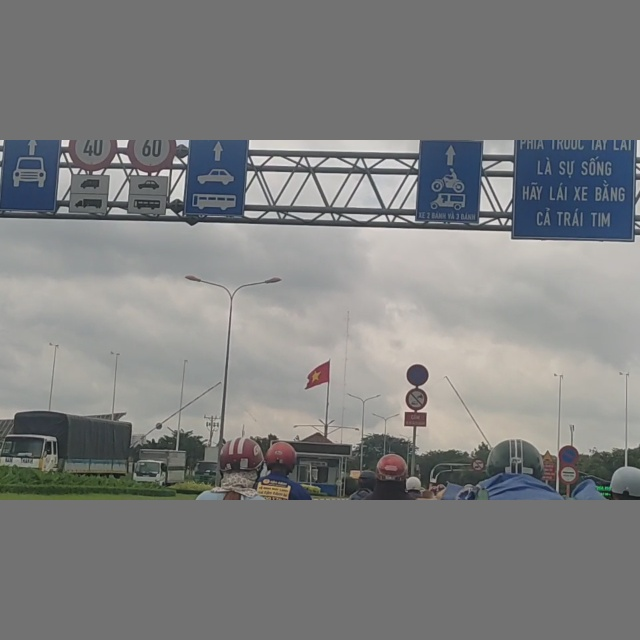P.107: (471, 458, 485, 471)
P.111: (406, 388, 428, 409)
P.127*40: (69, 141, 117, 170)
P.127*60: (127, 141, 177, 172)
P.129: (560, 465, 578, 484)
P.130: (407, 365, 429, 385)
P.131a: (558, 445, 579, 465)
W.221b: (542, 449, 554, 463)
